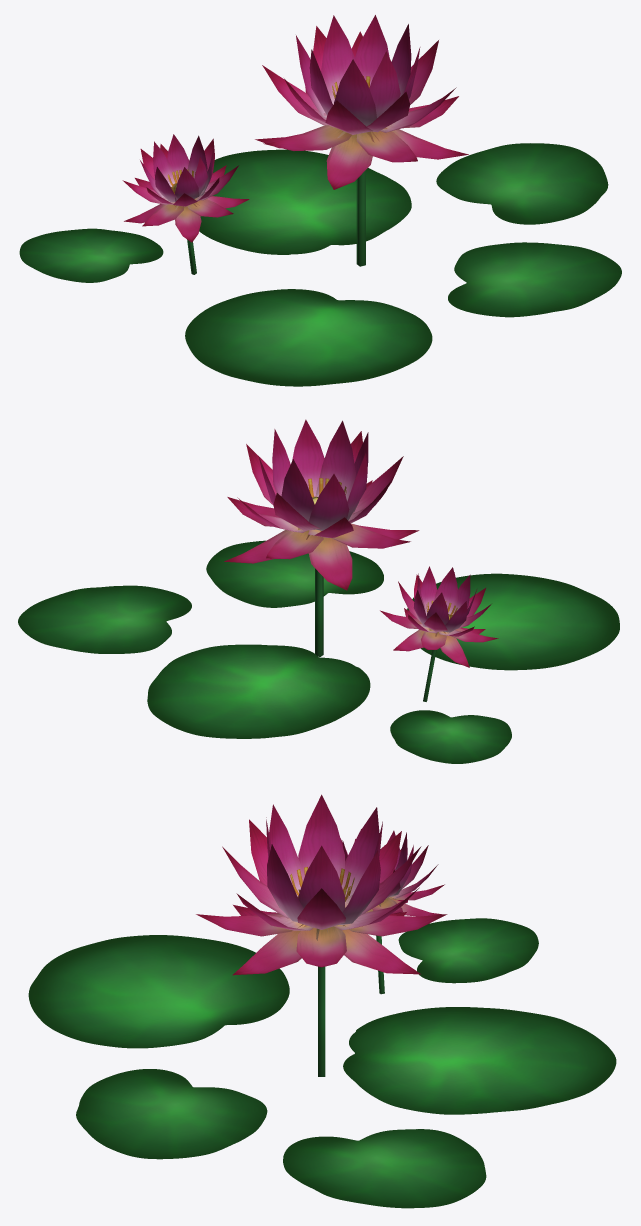
Rendered from lotus.fbx.
3 views of the same model, one above another, from view 1: azimuth 30°, elevation 25°; view 2: azimuth 150°, elevation 25°; view 3: azimuth 270°, elevation 25° (orthographic). The views are drawn at different scales.
Parts seen in each view (by area): view 1: lotus; view 2: lotus; view 3: lotus.
Boxes of the visible parts, <box> form: lotus: <box>19,15,621,386</box>; lotus: <box>18,419,619,763</box>; lotus: <box>28,794,616,1208</box>.
Size of the model in its own units: 1563 by 1367 by 635.
